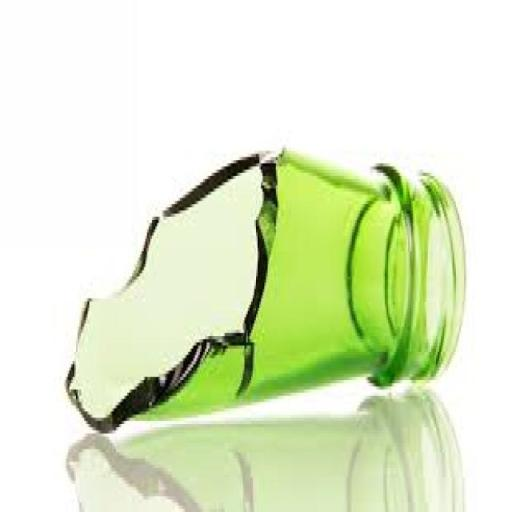glass: (62, 134, 464, 437)
